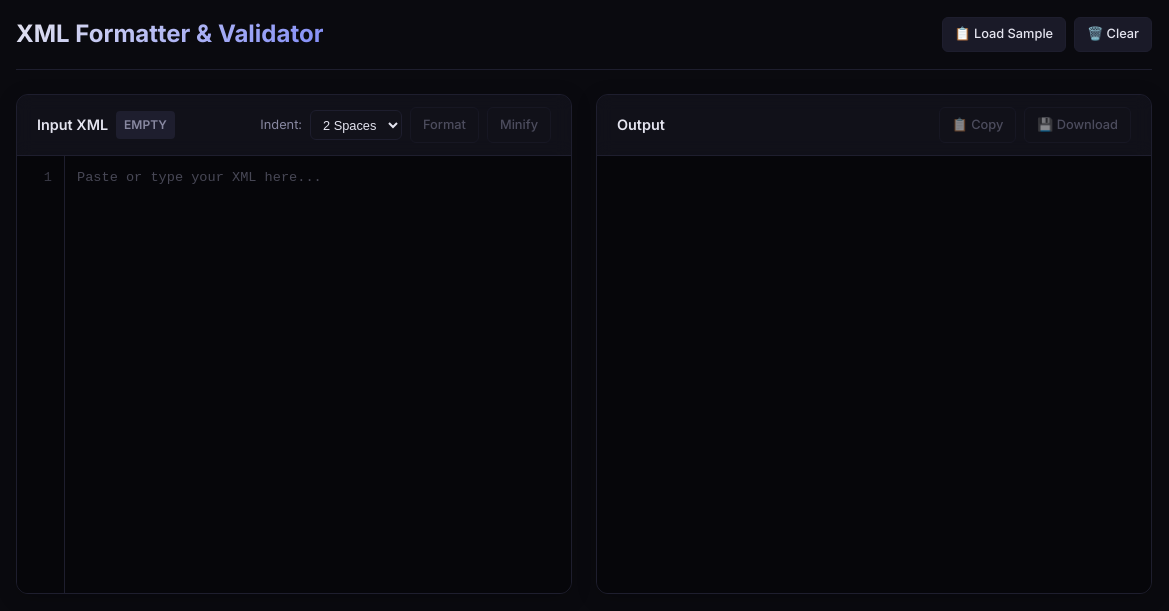
it: XmlTool Clear & Sample Load › resets input and output when clear button is clicked
Type "<root><child attr=\"val\">text</child></root>" into the text box named "XML Input Area" at (318, 374), box [65,156,571,593]
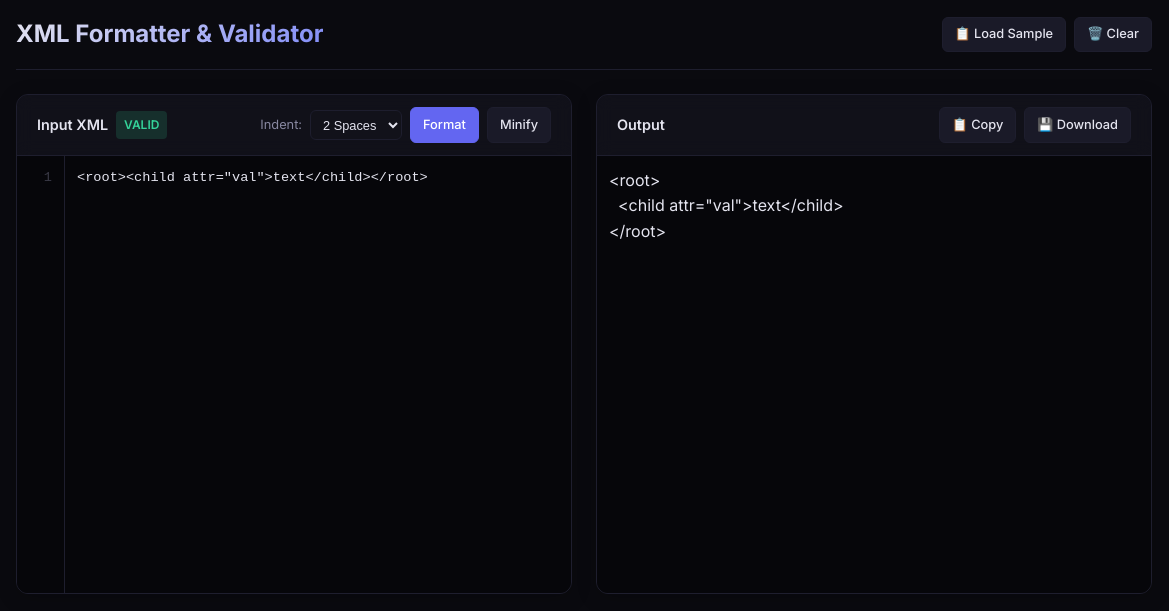
expect the text "Valid" is shown: met, box [116,111,167,139]
Click the button with aria-label "Clear inputs" at (1113, 34), box [1074,17,1152,52]
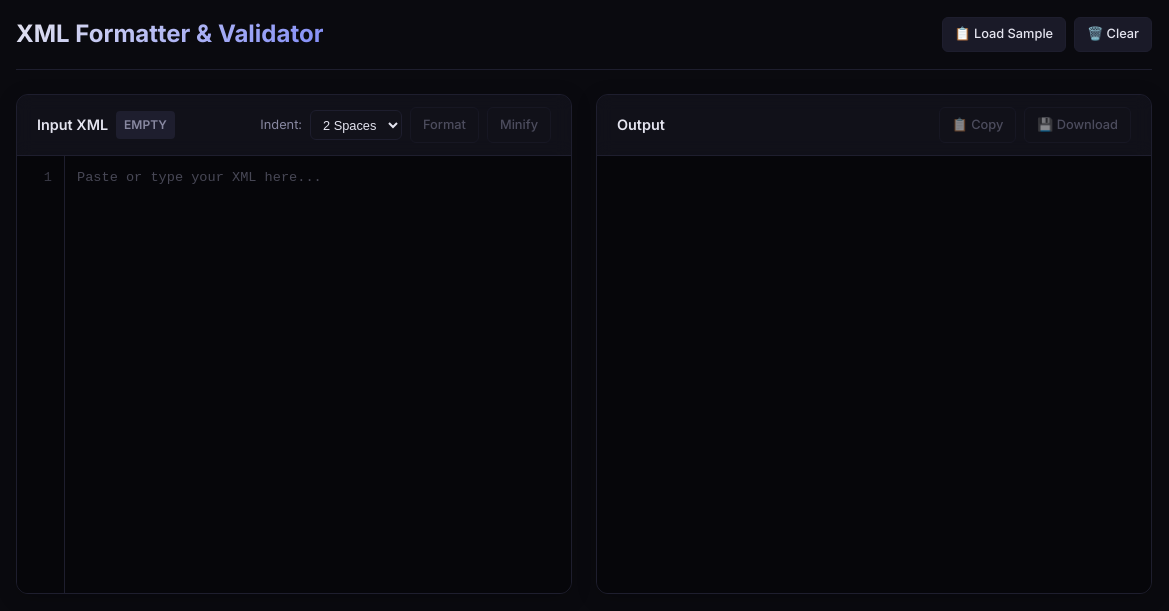
expect the text box named "XML Input Area" is empty: met, box [65,156,571,593]
expect the text "Empty" is shown: met, box [116,111,175,139]
